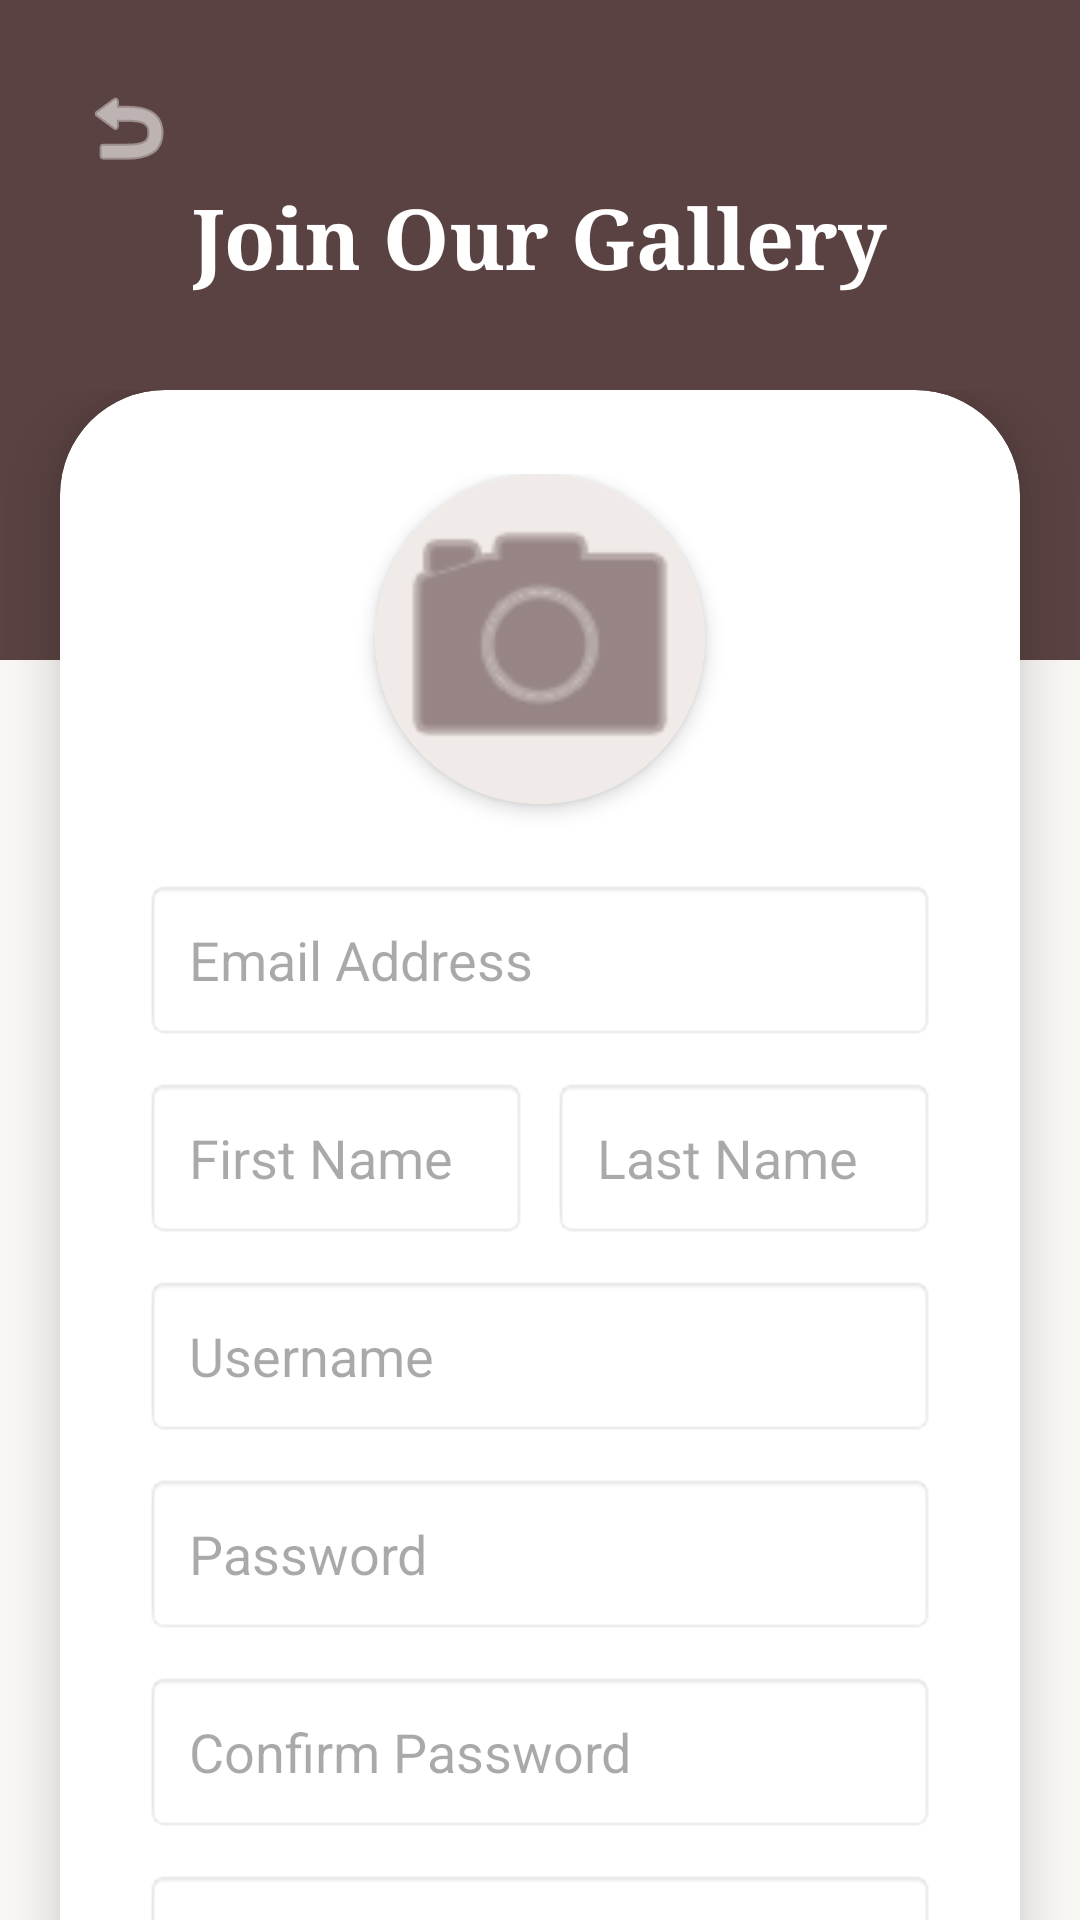

Point at icon controls on the screen. Image size 1080×1920, points as (x,y).
camera: (540,667)
revert: (129,128)
